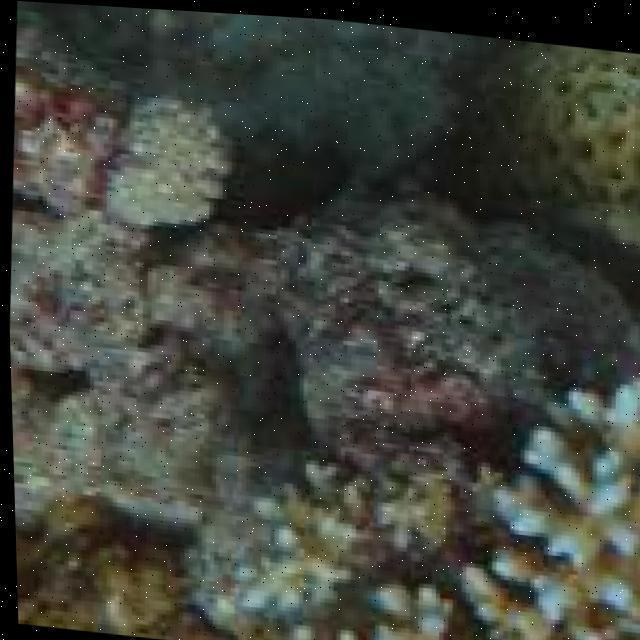Healthy Coral: (499, 23, 640, 222)
